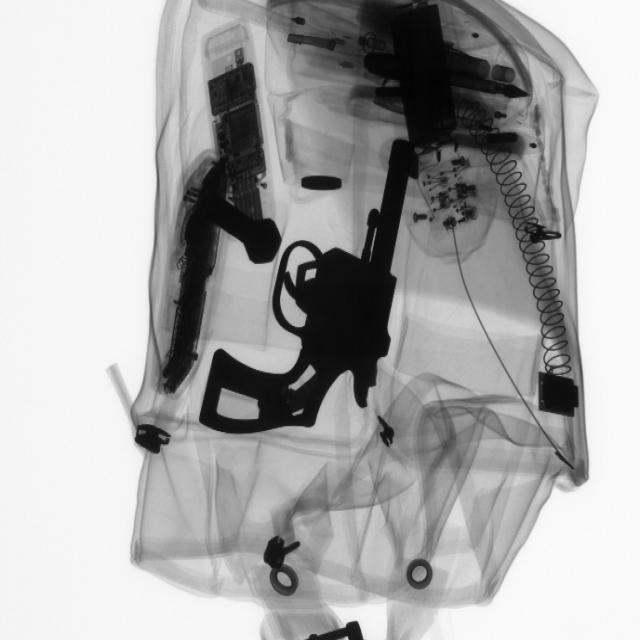GUN: (197, 144, 427, 430)
